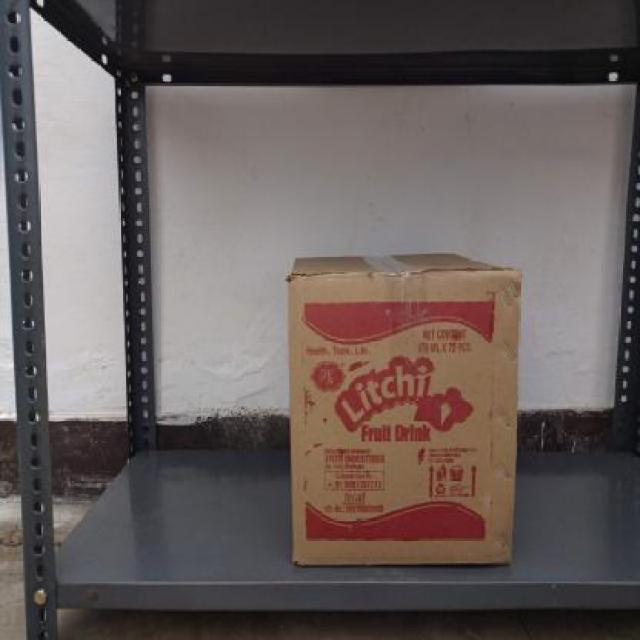box: (295, 269, 521, 563)
